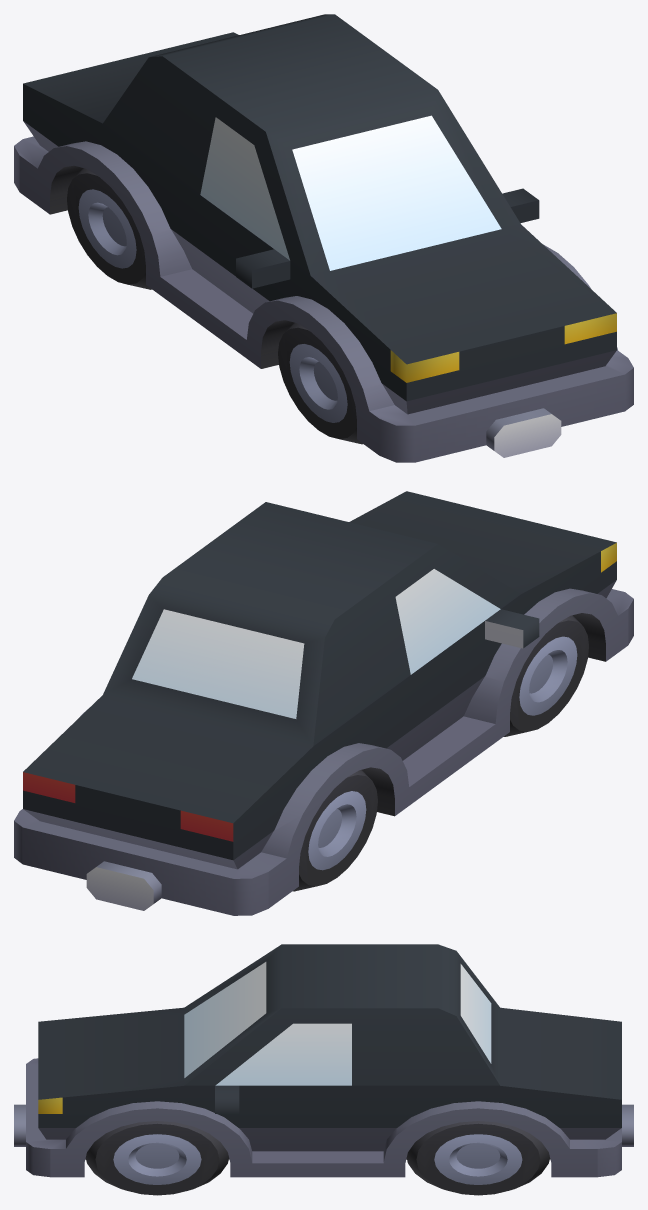
The model's file is sedan-charcoal.glb.
3 renders of one model, top to bottom at view 1: azimuth 30°, elevation 25°; view 2: azimuth 150°, elevation 25°; view 3: azimuth 270°, elevation 25°, orthographic. The views are drawn at different scales.
Visible parts, largest first — view 1: sedan; view 2: sedan; view 3: sedan.
Boxes of the visible parts, <box> form: sedan: <box>14,14,633,462</box>; sedan: <box>14,491,633,915</box>; sedan: <box>14,944,633,1195</box>.
Size of the model in its own units: 1.85 by 1.48 by 4.55.
1 material, 1 textured.
